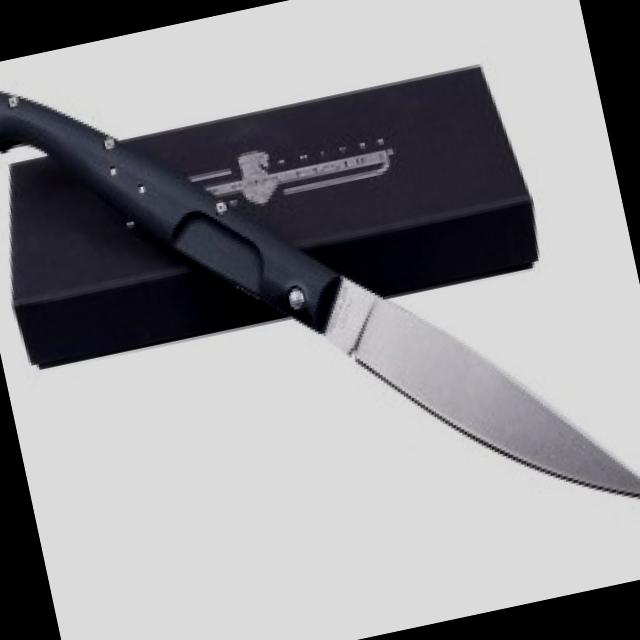knife: (295, 206, 639, 574)
